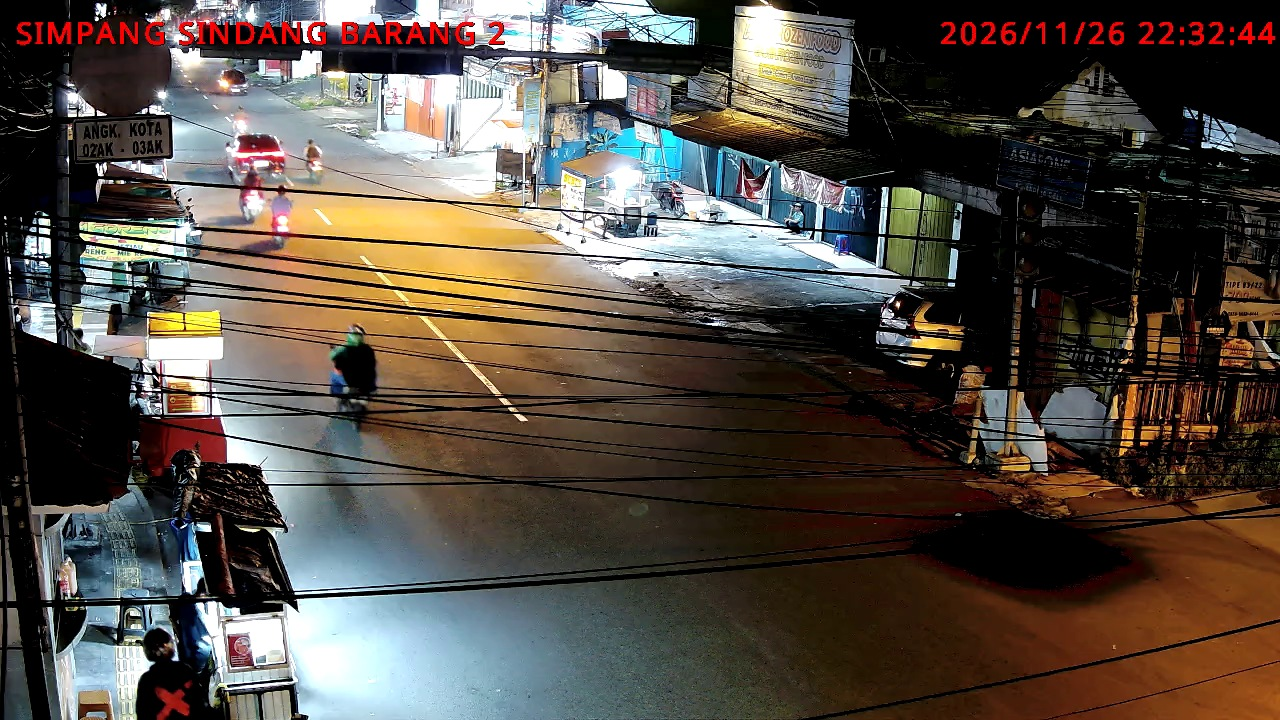Gerobak: (188, 580, 308, 716)
